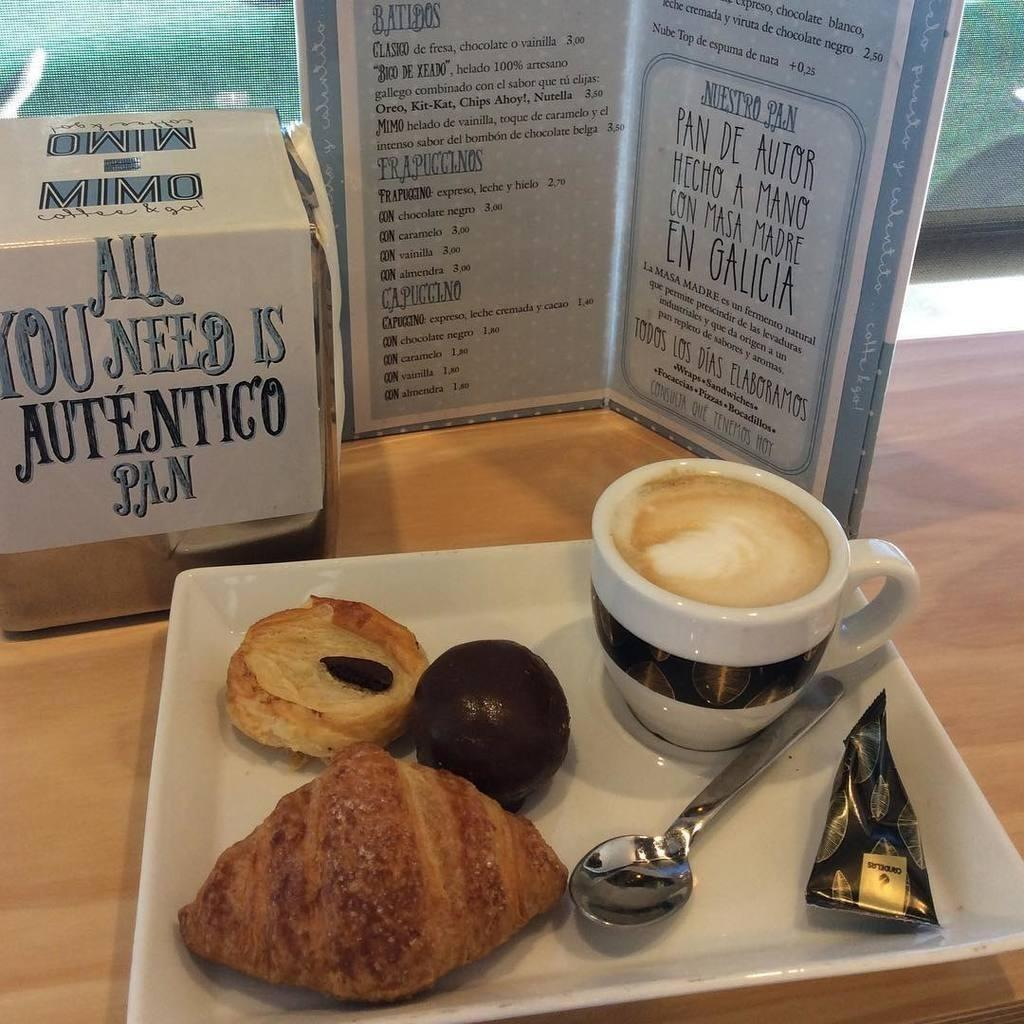cup-handle: (591, 455, 932, 766)
